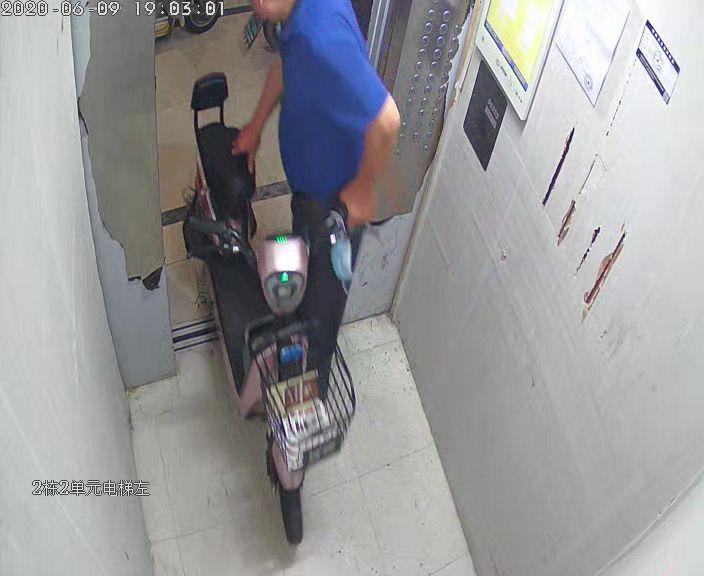Electric-bicycle: (187, 73, 355, 542)
